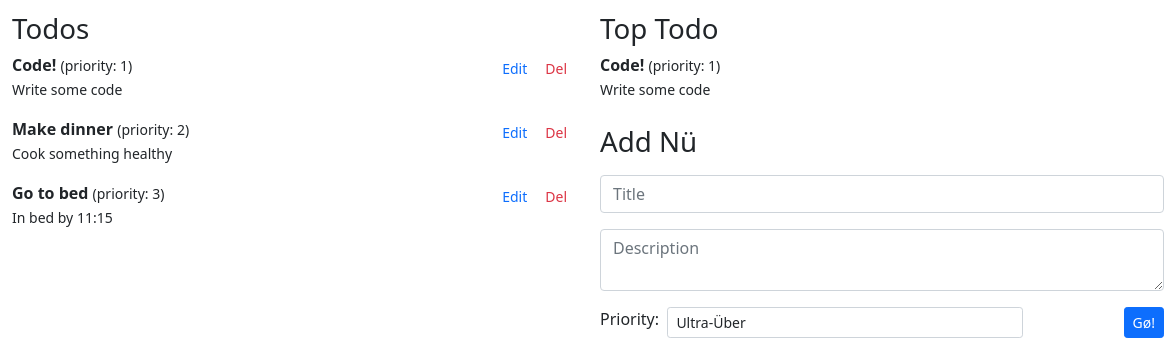
Test: TodoApp › should have one less todo in todolist and top todo should change after clicking delete button
Click the 1st button "Del". click: [556, 69]
box: [536, 53, 576, 84]
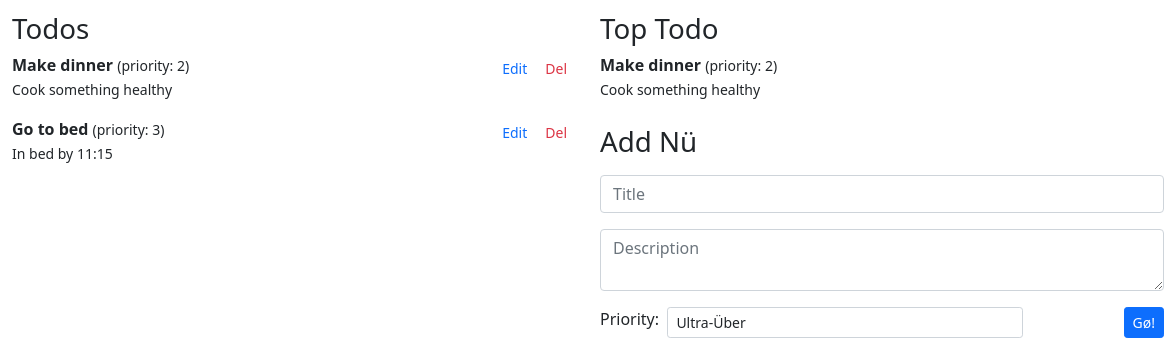
Expected: the number of elements with class "Todo" is 3, [12, 54, 189, 99]; [12, 118, 164, 163]; [600, 54, 777, 99]
Expected: the text "Code! (priority: 1) Write some code" is gone
